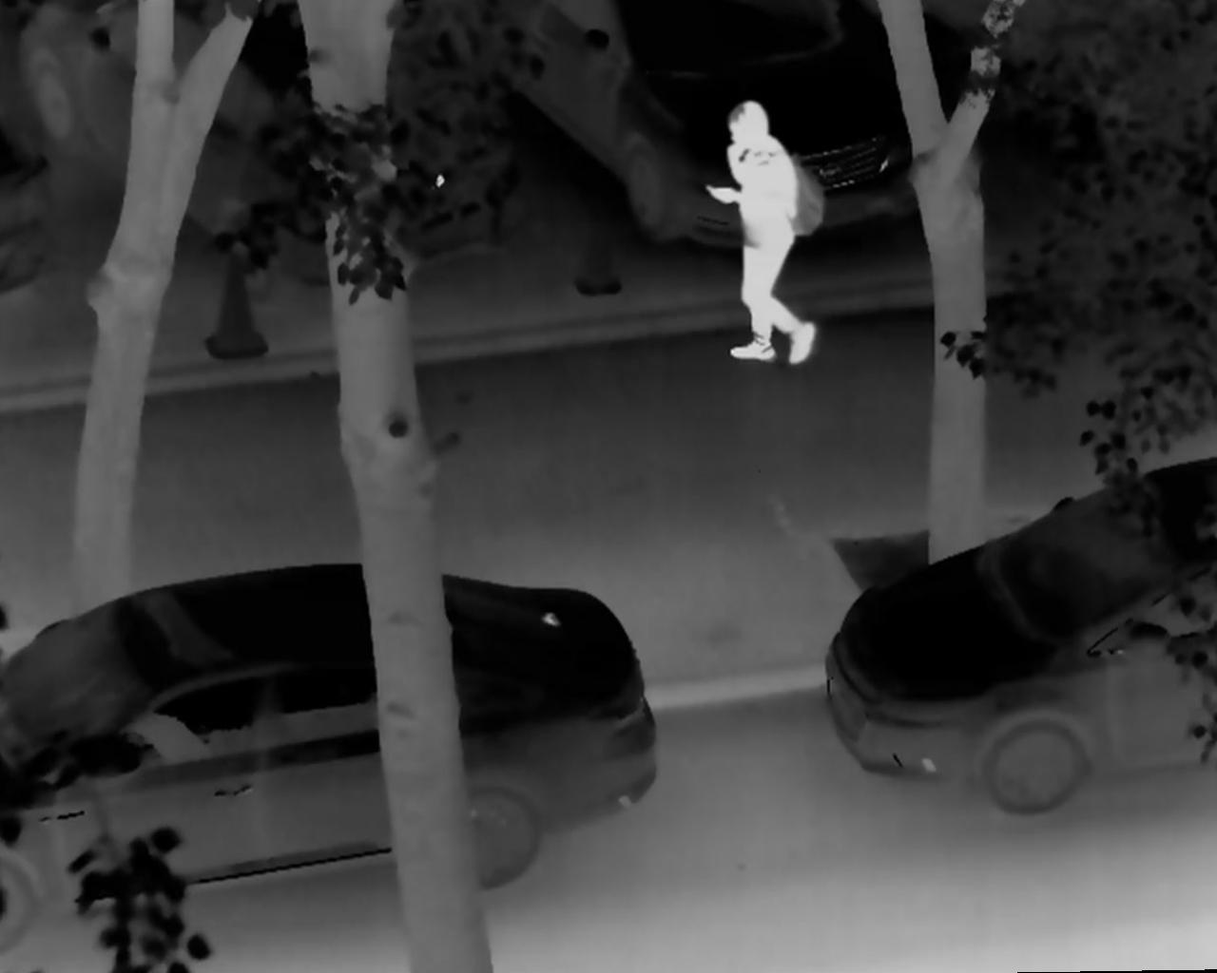person: (695, 90, 822, 371)
